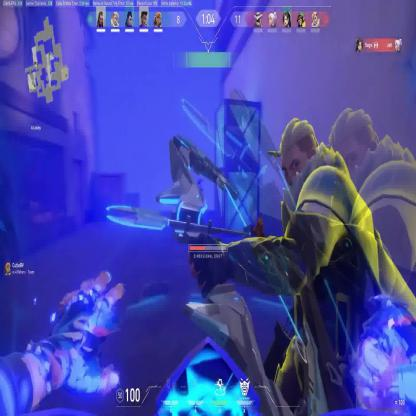enemy: (191, 113, 416, 408)
enemy_head: (280, 118, 318, 207)
